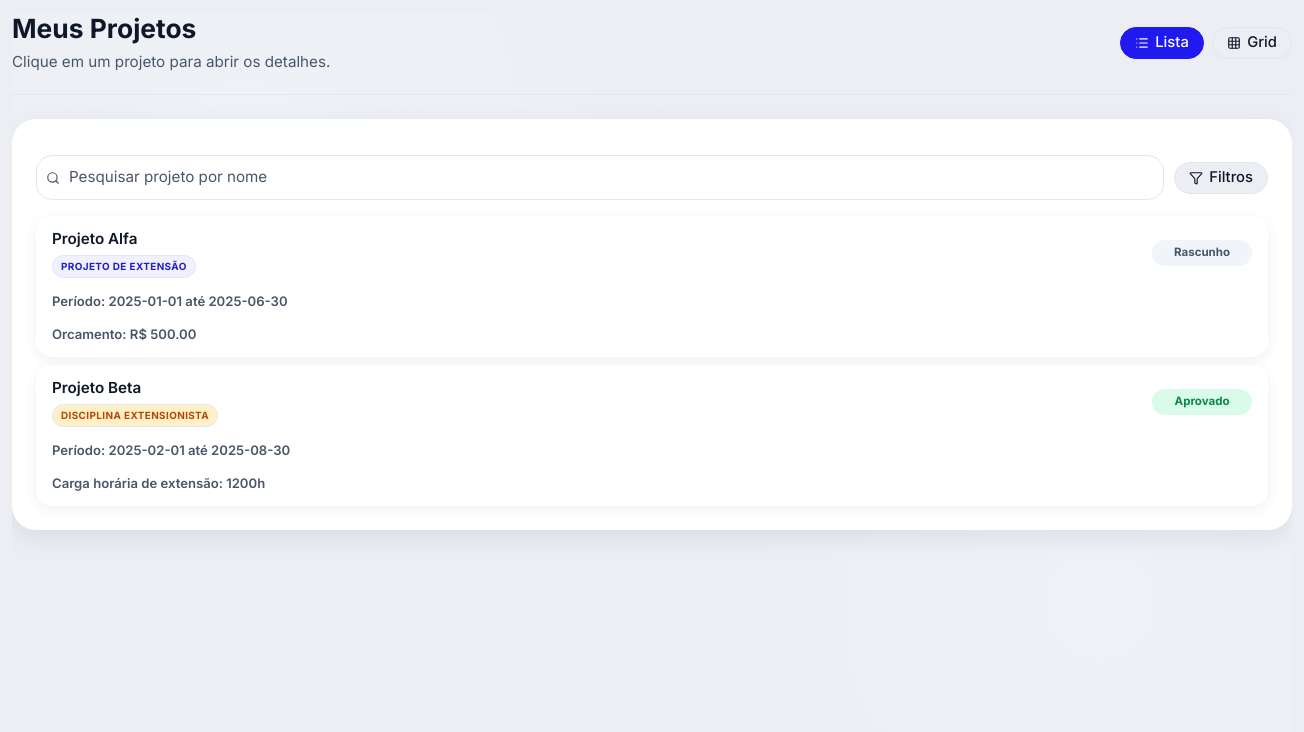
UserProjectsPage › filtra projetos pelo campo de busca
Expected: the heading "Projeto Alfa" is shown, [52,229,137,248]
Type "beta" into the field with placeholder "Pesquisar projeto por nome" at (600, 178), box [36,155,1164,200]
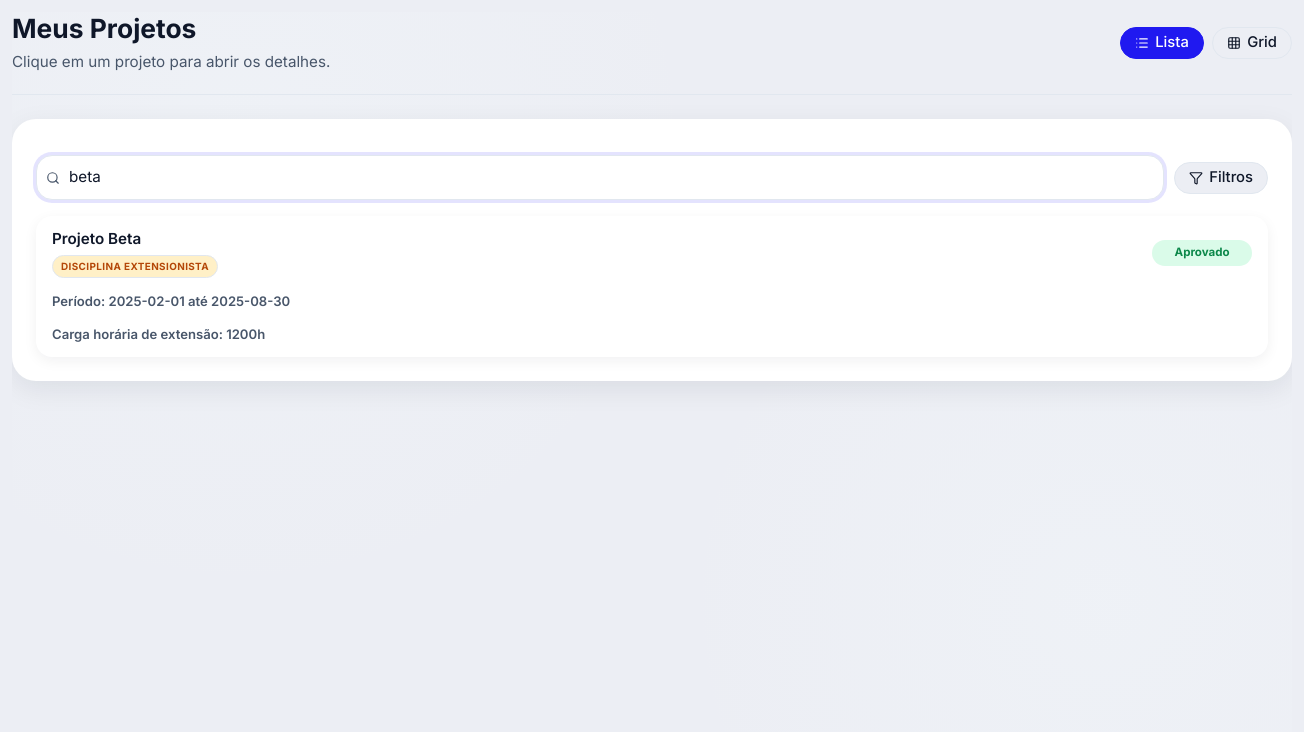
Expected: the heading "Projeto Beta" is shown, [52,229,141,248]
Expected: the link "Projeto Alfa" is gone
